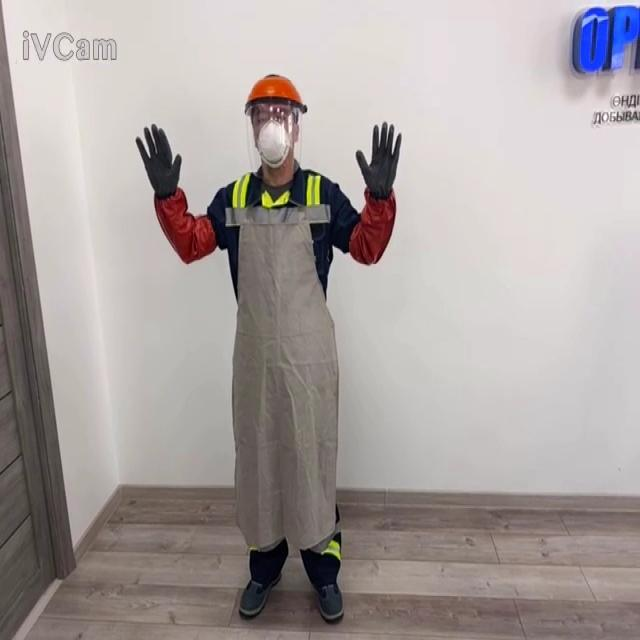Gloves: (355, 120, 401, 200), (135, 122, 181, 198)
Mask: (254, 115, 292, 169)
Protective apron: (226, 180, 339, 553)
Safety Shoes: (238, 571, 281, 616), (315, 580, 343, 620)
Sleeve: (153, 185, 216, 264), (348, 186, 396, 266)
